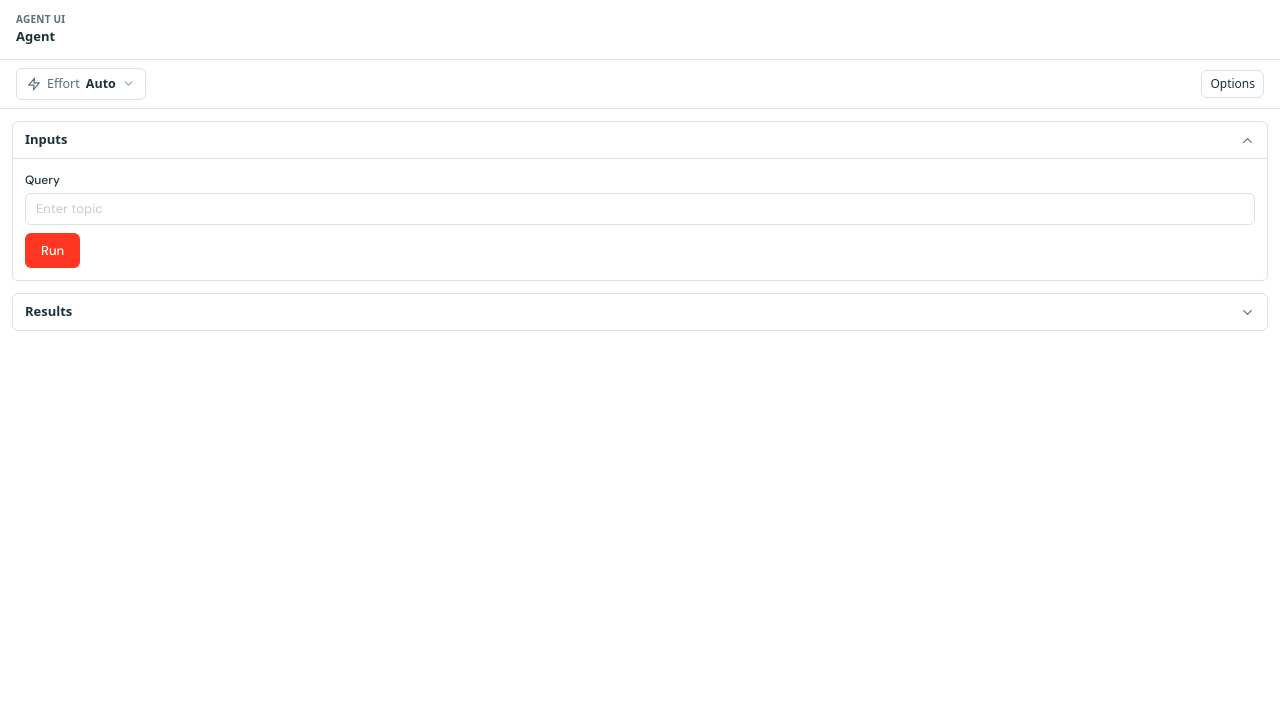
Test case: AgentSurfacePanel › enforces runtime_controls hide and locked policies
Expected: the button with test id "surface-effort-chip" is disabled, [16,68,146,100]
Click the button "Options" at (1233, 84), box [1201,70,1264,98]
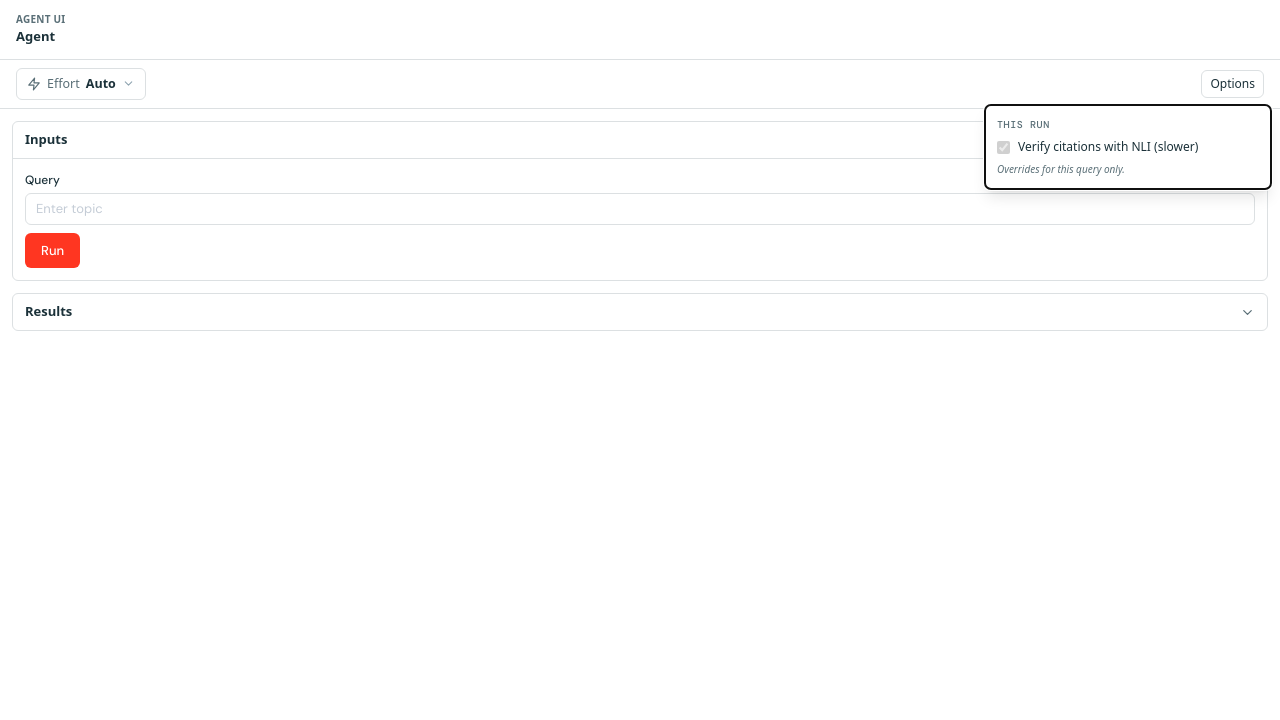
Now the checkbox labelled "Verify citations with NLI (slower)" is disabled, box [997,140,1010,154]
